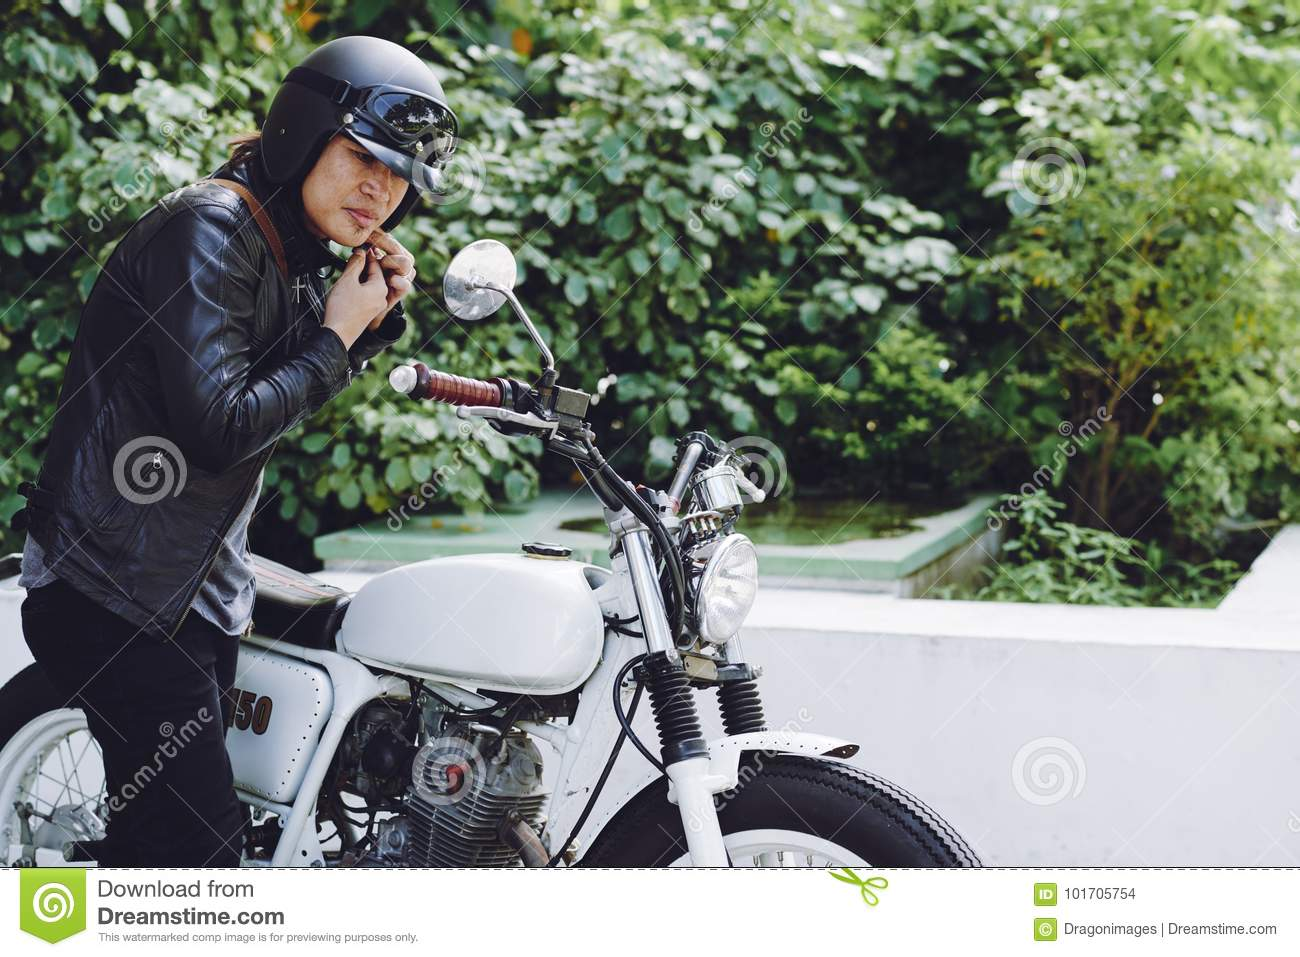helmet: (257, 24, 464, 182)
